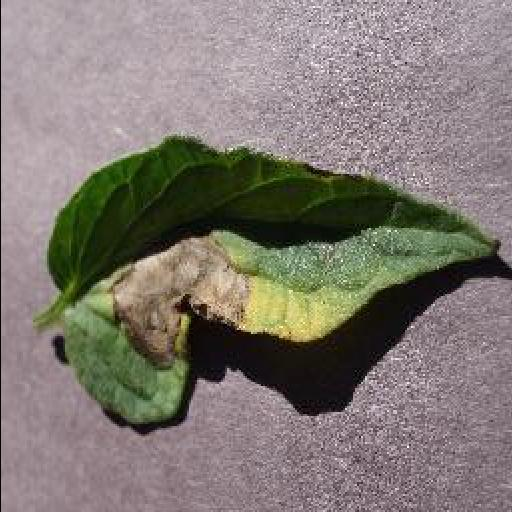disease_tomato: (46, 136, 502, 428)
